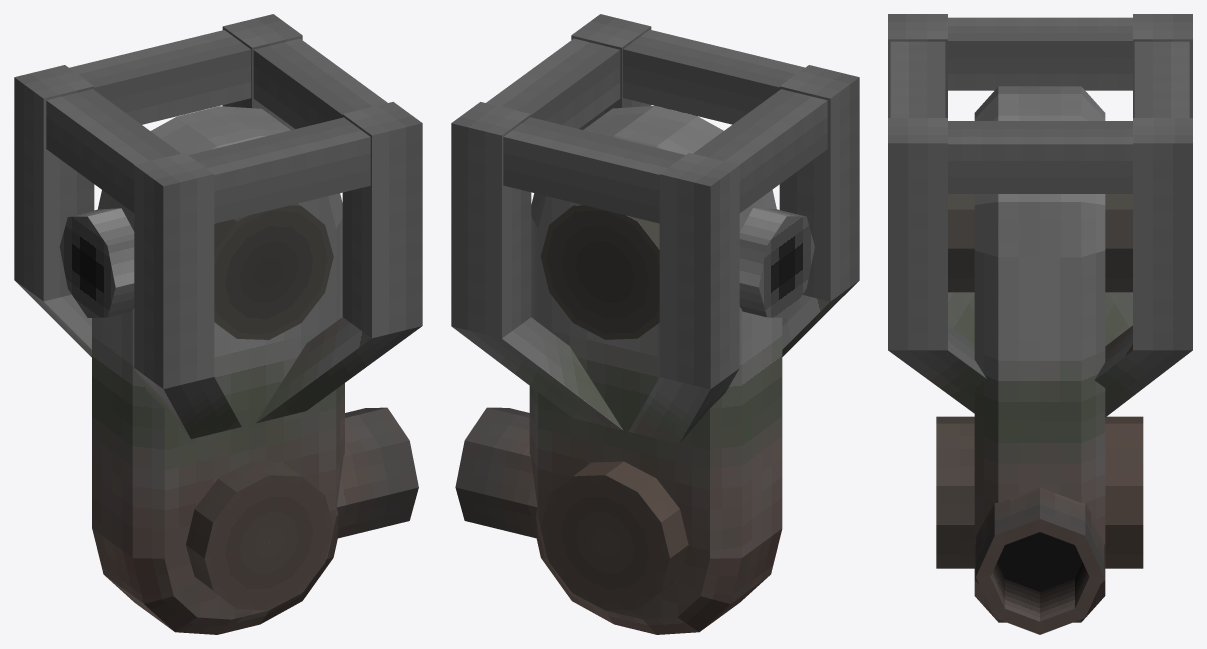
Rendered from water_pomp.obj.
The picture shows the model from 3 angles, left to right: view 1: azimuth 30°, elevation 25°; view 2: azimuth 150°, elevation 25°; view 3: azimuth 270°, elevation 25°; orthographic projection. The views are drawn at different scales.
Visible parts, largest first — view 1: Куб.002; view 2: Куб.002; view 3: Куб.002.
Boxes of the visible parts, x1,y1,x2,y2 form: Куб.002: (14,14,422,634); Куб.002: (451,14,859,634); Куб.002: (888,14,1192,634).
Size of the model in its own units: 1.16 by 1.9 by 0.9998.
1 material, 1 textured.
